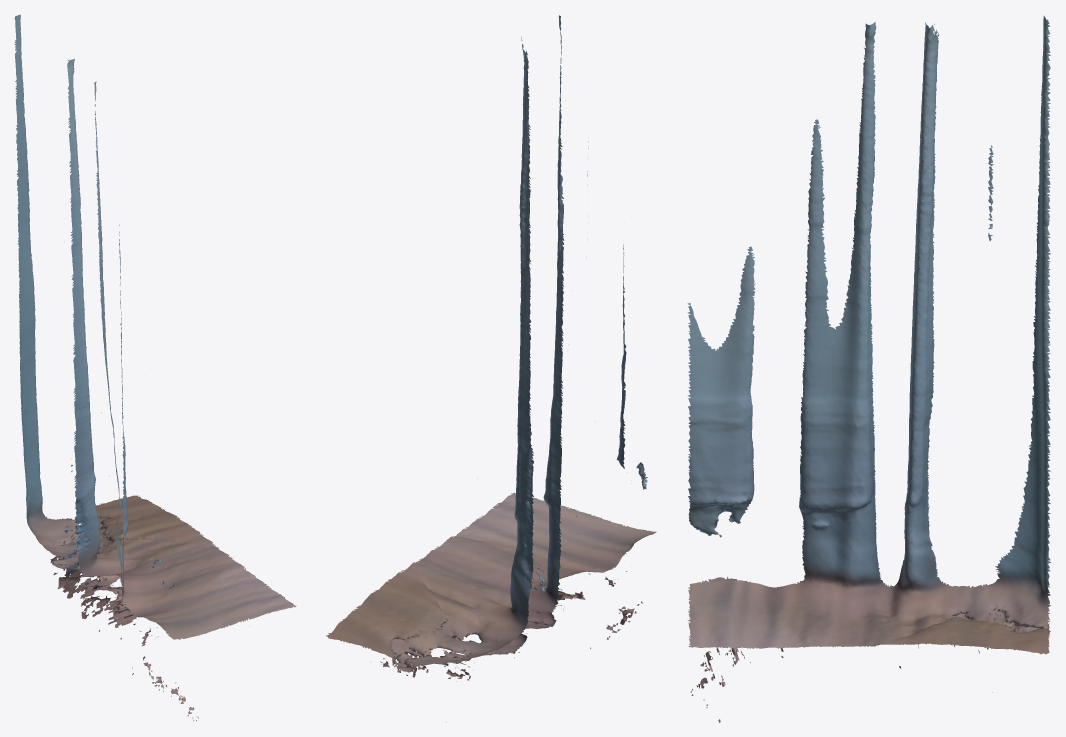
File: apartment-full-19-72370d1150cd.glb
The picture shows the model from 3 angles, left to right: view 1: azimuth 30°, elevation 25°; view 2: azimuth 150°, elevation 25°; view 3: azimuth 270°, elevation 25°; orthographic projection. The views are drawn at different scales.
Bounding box in the file's own units: 0.475 × 2.19 × 1.06.
